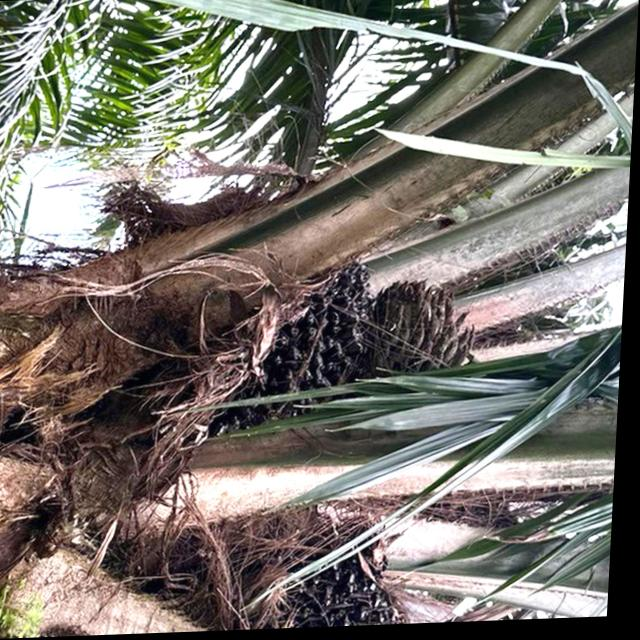unripe: (191, 248, 395, 449)
